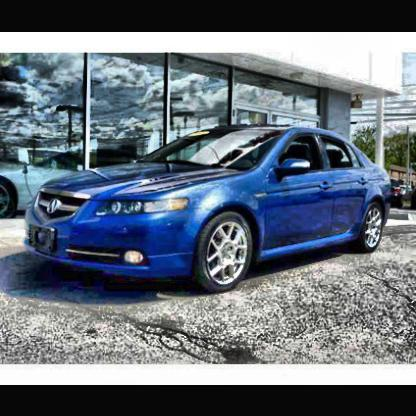Acura TL Type-S 2008: (24, 125, 395, 296)
